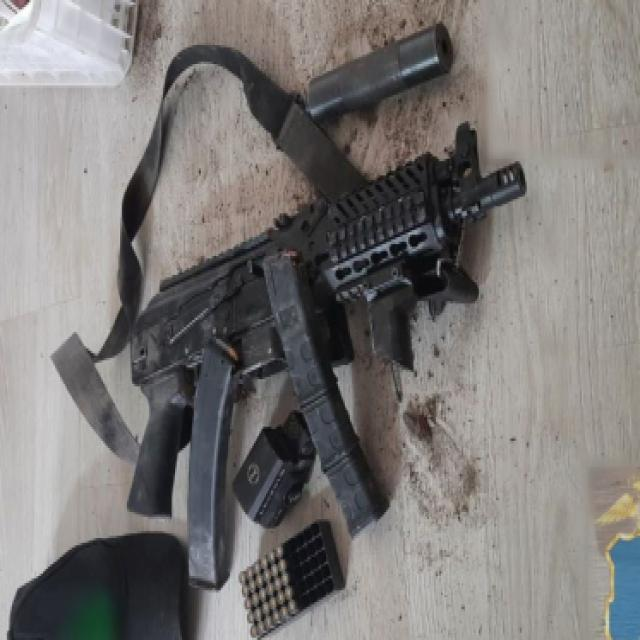firearm: (128, 122, 527, 520)
